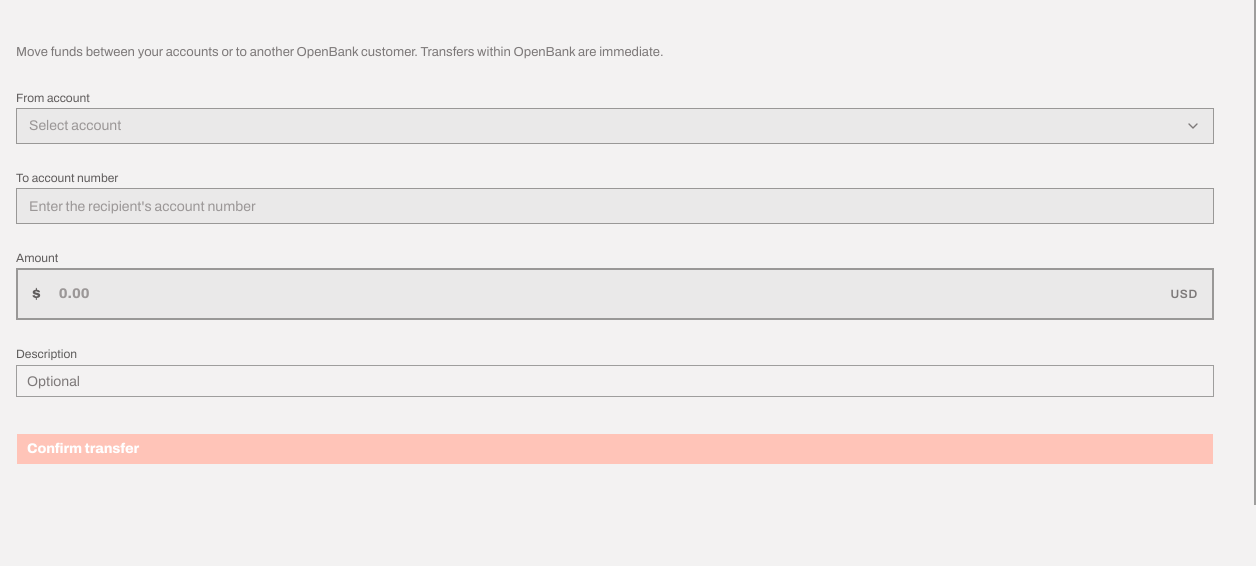
Test: TransferPanel integration › preview hit shows initials name and masked account when the account is found
Type "7723490011" into the field with placeholder "Enter the recipient's account number" at (615, 206), box left=16, top=188, right=1214, bottom=224
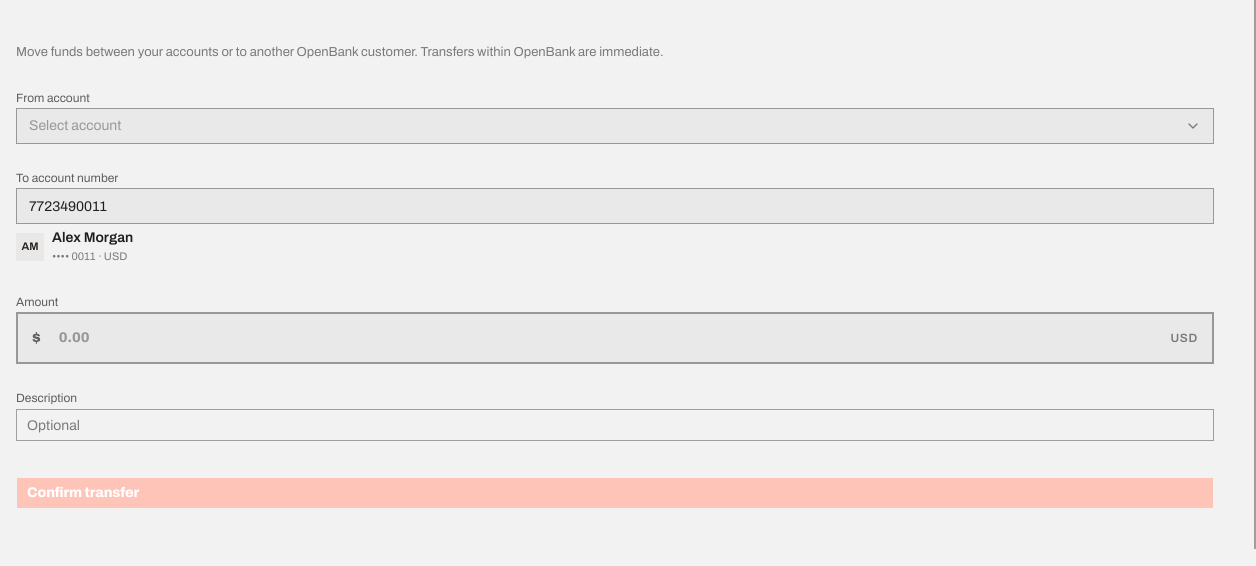
Expected: the text "Alex Morgan" is shown, left=52, top=228, right=133, bottom=248
Expected: the text "AM" is shown, left=16, top=232, right=44, bottom=260
Expected: the text "•••• 0011 · USD" is shown, left=52, top=248, right=133, bottom=265
